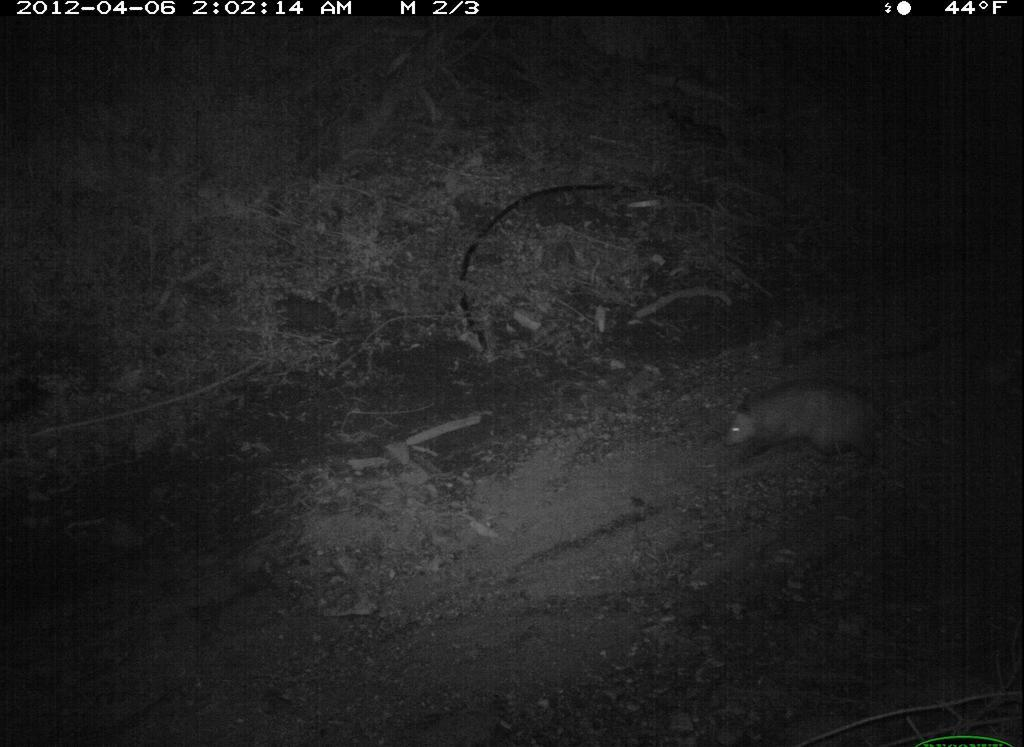opossum: (697, 383, 950, 493)
